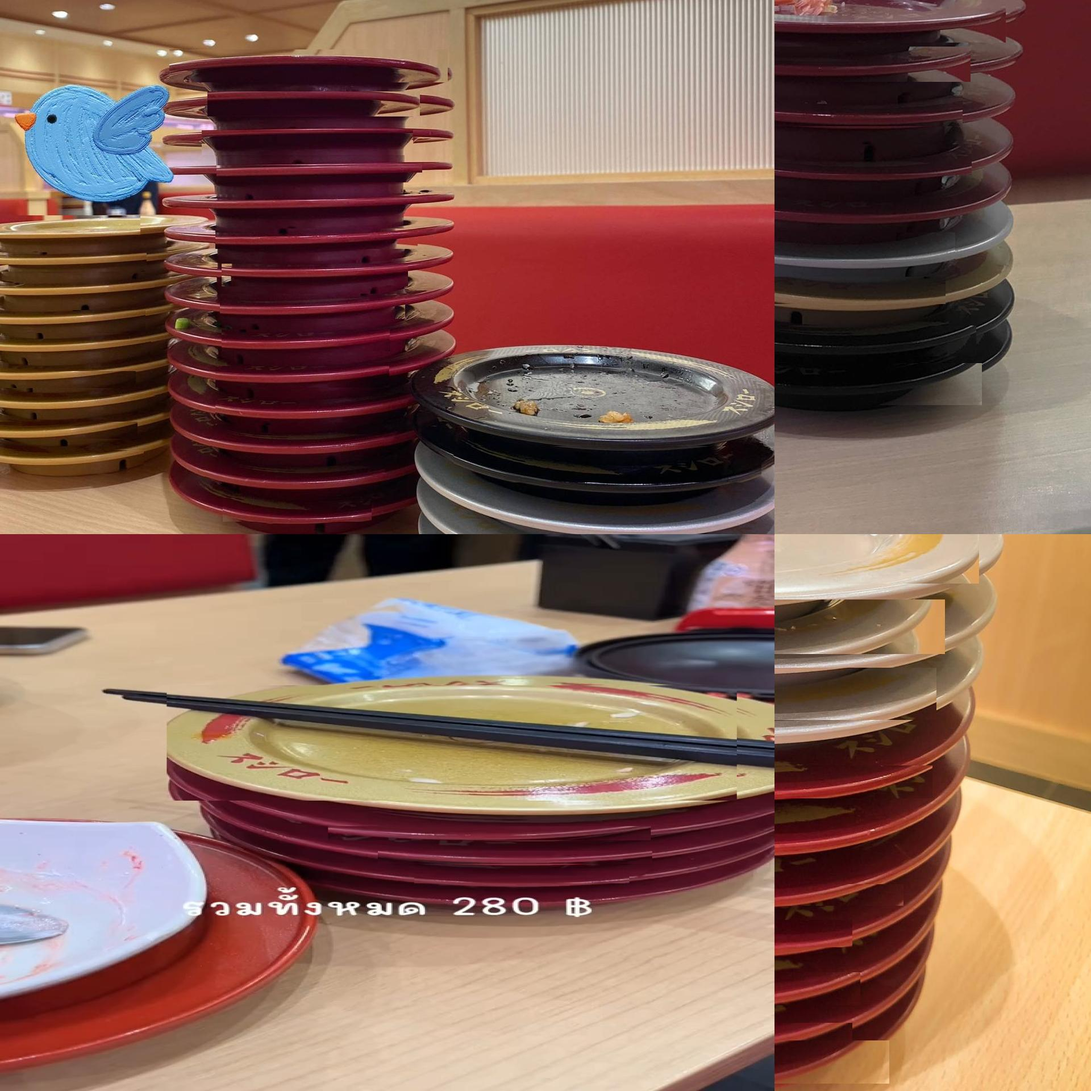Janback: (423, 348, 774, 433), (446, 445, 770, 484), (774, 361, 996, 407), (774, 324, 991, 359)
Jangold: (774, 274, 962, 306), (0, 449, 149, 476), (0, 280, 159, 305), (0, 310, 150, 334), (0, 339, 155, 362), (0, 213, 153, 236), (0, 251, 158, 273), (0, 395, 157, 414), (0, 420, 148, 440), (0, 369, 147, 389)
Janred: (774, 0, 1017, 45), (161, 48, 457, 84), (774, 43, 996, 85), (774, 184, 1008, 219), (774, 93, 985, 129), (774, 142, 990, 177), (183, 128, 432, 158), (189, 90, 439, 119), (774, 763, 957, 801), (774, 817, 926, 859), (774, 1039, 900, 1085), (210, 293, 416, 321), (209, 262, 421, 289), (204, 227, 430, 251), (193, 194, 457, 214), (209, 400, 395, 426), (201, 164, 438, 184), (213, 496, 382, 524), (207, 435, 387, 460), (209, 365, 396, 389), (213, 329, 399, 353), (204, 467, 406, 488), (774, 970, 873, 1007), (774, 882, 919, 907), (774, 918, 871, 950), (774, 1022, 864, 1047)
Janwhite: (774, 595, 980, 659), (774, 663, 969, 725), (774, 534, 995, 586), (460, 500, 774, 534), (774, 231, 971, 261)
